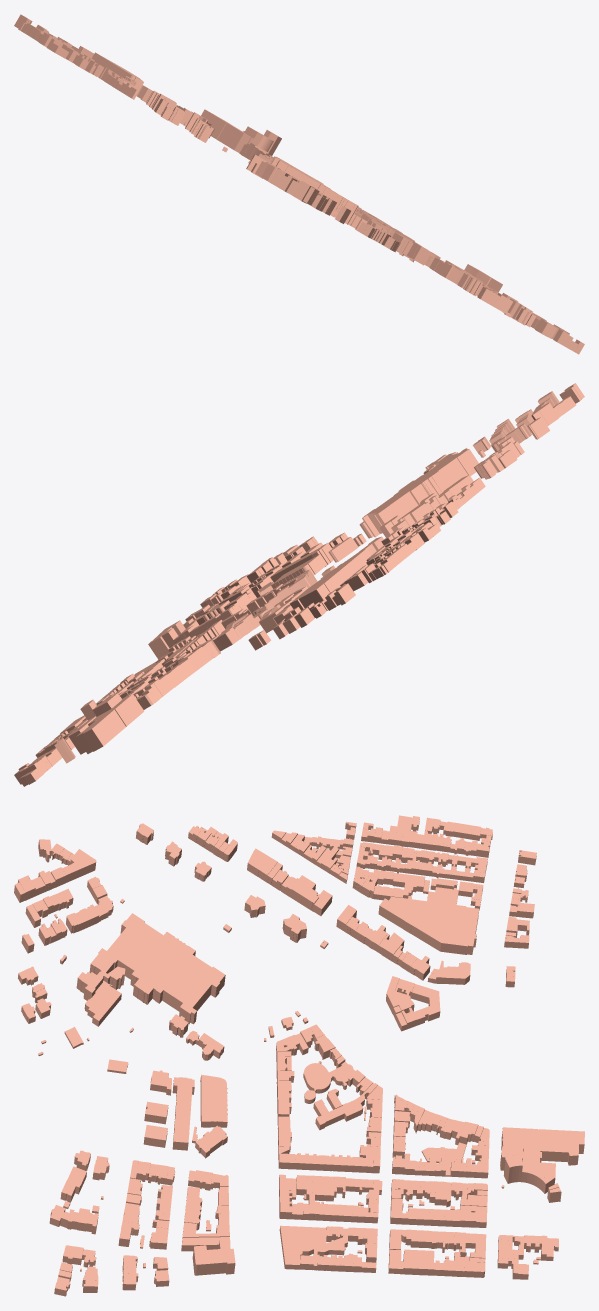
The picture shows the model from 3 angles, top to bottom: view 1: azimuth 30°, elevation 25°; view 2: azimuth 150°, elevation 25°; view 3: azimuth 270°, elevation 25°; orthographic projection. The views are drawn at different scales.
Size of the model in its own units: 533 by 390 by 672.
